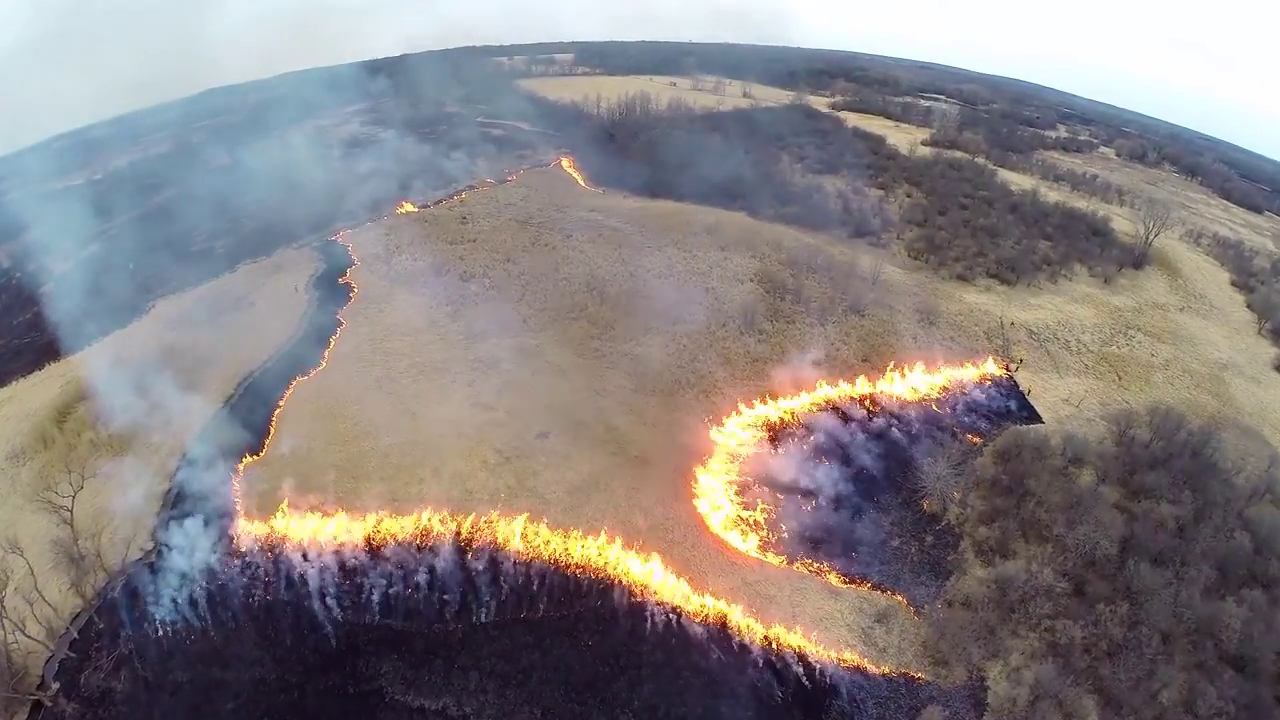forest_fire: (234, 500, 896, 674), (694, 358, 1011, 612), (232, 231, 359, 513), (397, 171, 524, 213), (559, 156, 602, 192)
